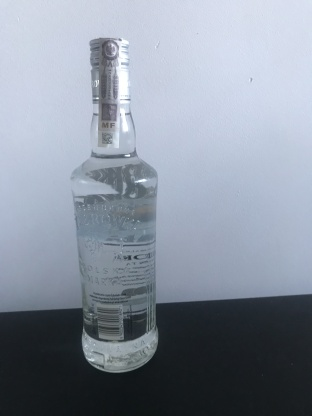nakretka: (86, 33, 134, 106)
